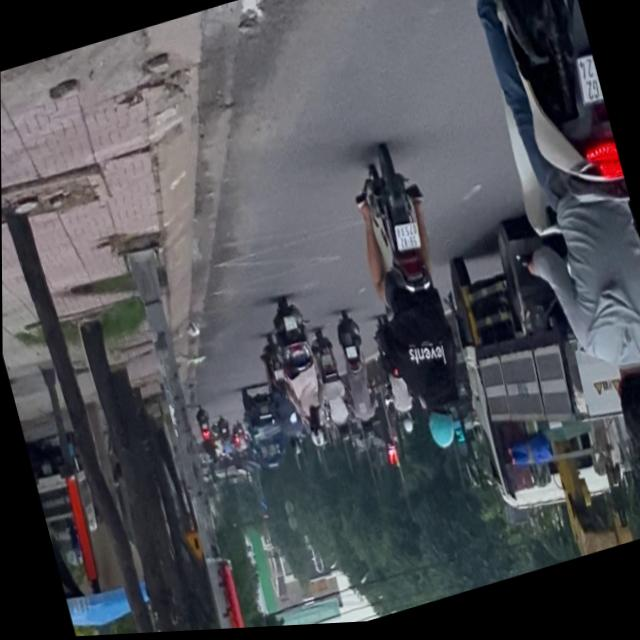helmet: (422, 405, 460, 456)
licenseplate: (442, 0, 640, 481), (335, 139, 488, 468)
motorcyclist: (607, 366, 640, 460)
nohelmet: (574, 61, 604, 113), (392, 225, 421, 257)
